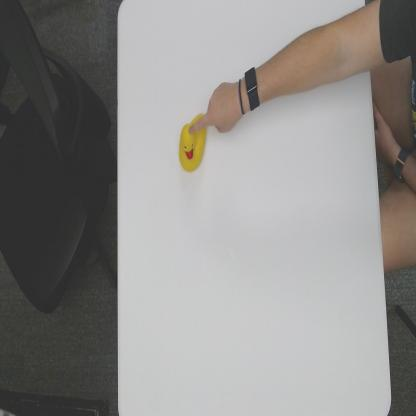Arm: (262, 9, 371, 105)
Duck: (177, 111, 208, 174)
Hand: (189, 79, 245, 135)
